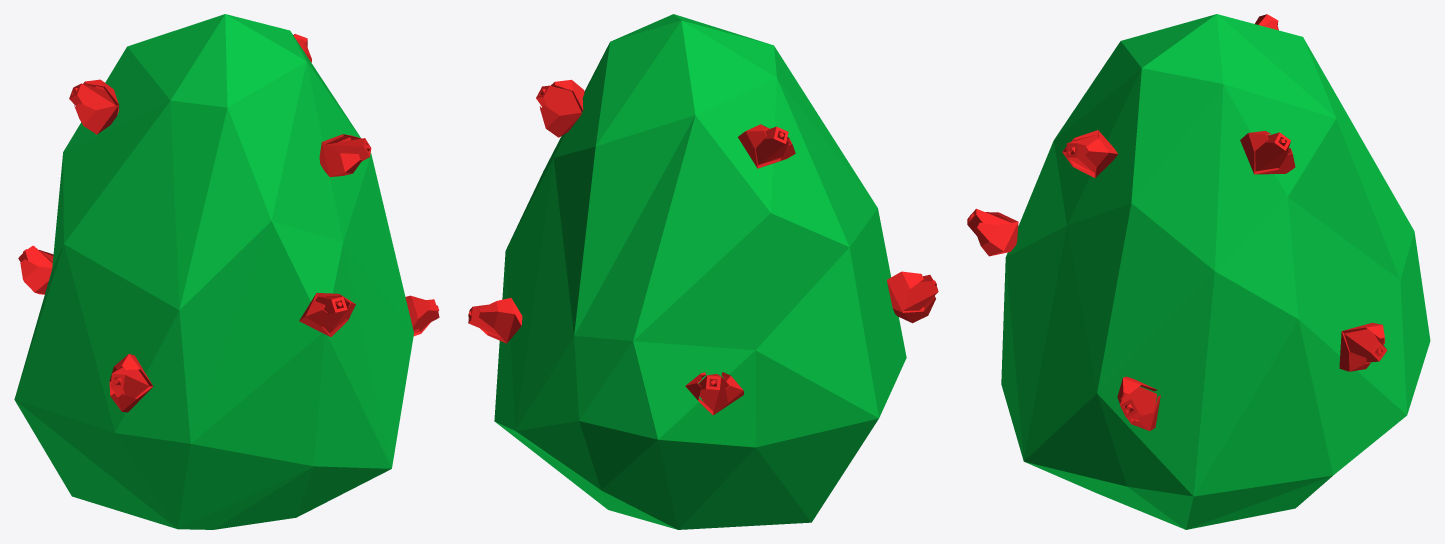
File: stm_env_rose_bush.fbx
The picture shows the model from 3 angles, left to right: view 1: azimuth 30°, elevation 25°; view 2: azimuth 150°, elevation 25°; view 3: azimuth 270°, elevation 25°; orthographic projection. The views are drawn at different scales.
Visible parts, largest first — view 1: Rose_8; view 2: Rose_8; view 3: Rose_8.
Part boxes in pixels (x1,y1,x2,y2): Rose_8: (14, 14, 439, 529); Rose_8: (468, 14, 938, 529); Rose_8: (967, 14, 1430, 529).
Bounding box in the file's own units: 555 × 688 × 580.
